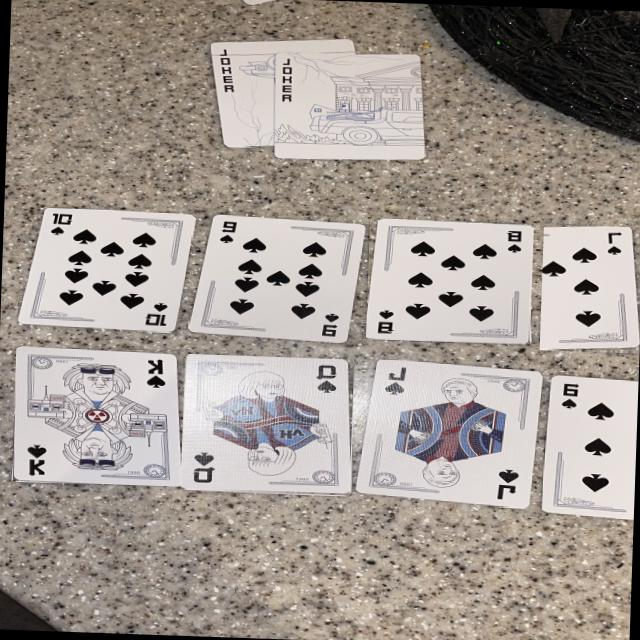10 of spades: (18, 207, 194, 332)
6 of spades: (542, 375, 637, 520)
7 of spades: (539, 227, 640, 350)
8 of spades: (366, 219, 532, 343)
9 of spades: (189, 215, 365, 342)
Jack of spades: (357, 360, 540, 507)
Joker: (273, 52, 426, 160), (211, 39, 355, 147)
King of spades: (13, 346, 181, 486)
Queen of spades: (181, 354, 351, 494)
